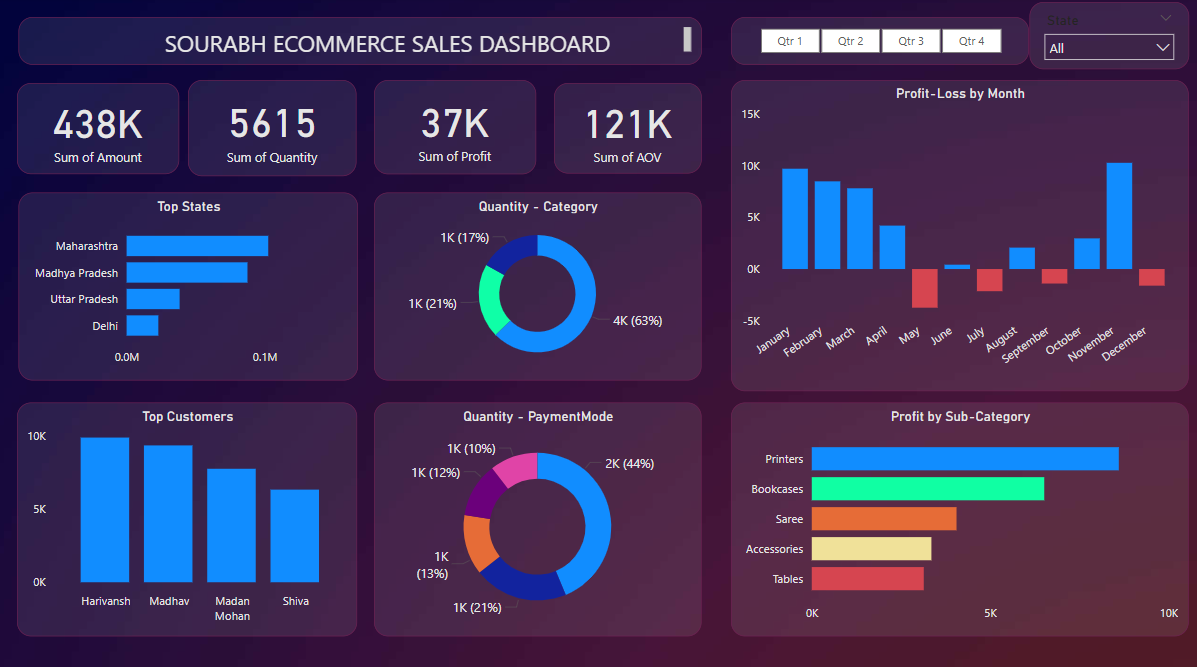

This screenshot's page, from the dashboard's own definition file:
{"tool":"powerbi","page":{"name":"E Commerce Dashboard","canvas":[1280,720],"ordinal":0},"visuals":[{"type":"columnChart","title":"Profit-Loss by Month","fields":{"Y":["Sum(Details.Profit)"],"Category":["Orders.Order Date.Variation.Date Hierarchy.Month"]},"box":[780.1,88.5,485.3,329.7],"z":0},{"type":"barChart","title":" Profit by Sub-Category","fields":{"Category":["Details.Sub-Category"],"Y":["Sum(Details.Profit)"]},"box":[780.1,430.9,485.3,248],"z":1000},{"type":"donutChart","title":"Quantity - Category","fields":{"Category":["Details.Category"],"Y":["Sum(Details.Quantity)"]},"box":[400.7,209.1,347.2,199.4],"z":2000},{"type":"donutChart","title":"Quantity - PaymentMode","fields":{"Y":["Sum(Details.Quantity)"],"Category":["Details.PaymentMode"]},"box":[400.7,430.9,347.2,248],"z":3000},{"type":"card","fields":{"Values":["Sum(Details.Amount)"]},"box":[22.7,92.6,172,96.4],"z":4000},{"type":"card","fields":{"Values":["Sum(Details.Quantity)"]},"box":[204.3,88.5,179,102.1],"z":5000},{"type":"card","fields":{"Values":["Sum(Details.Profit)"]},"box":[400.7,88.5,172.2,100.2],"z":6000},{"type":"card","fields":{"Values":["Sum(Details.AOV)"]},"box":[591.4,92.4,156.6,96.3],"z":7000},{"type":"barChart","title":"Top States","fields":{"Category":["Orders.State"],"Y":["Sum(Details.Amount)"]},"box":[23.3,209.1,359.9,199.4],"z":8000},{"type":"columnChart","title":"Top Customers","fields":{"Category":["Orders.CustomerName"],"Y":["Sum(Details.Amount)"]},"box":[22.4,430.9,360.9,248],"z":9000},{"type":"slicer","fields":{"Values":["Orders.Order Date.Variation.Date Hierarchy.Quarter"]},"box":[780.1,22.4,316.1,50.6],"z":10000},{"type":"slicer","fields":{"Values":["Orders.State"]},"box":[1103.1,7.1,162.3,70.9],"z":11000},{"type":"textbox","box":[23.3,22.4,724.6,50.6],"z":12000}]}

Visuals, with their boxes in screenshot pixels (x1, y1, x2, y2), scaled from the page's 1280x720 canvas onto the 1197x667 screenshot:
"Profit-Loss by Month" columnChart: x1=730 y1=82 x2=1183 y2=387
" Profit by Sub-Category" barChart: x1=730 y1=399 x2=1183 y2=629
"Quantity - Category" donutChart: x1=375 y1=194 x2=699 y2=378
"Quantity - PaymentMode" donutChart: x1=375 y1=399 x2=699 y2=629
card - Sum(Details.Amount): x1=21 y1=86 x2=182 y2=175
card - Sum(Details.Quantity): x1=191 y1=82 x2=358 y2=177
card - Sum(Details.Profit): x1=375 y1=82 x2=536 y2=175
card - Sum(Details.AOV): x1=553 y1=86 x2=699 y2=175
"Top States" barChart: x1=22 y1=194 x2=358 y2=378
"Top Customers" columnChart: x1=21 y1=399 x2=358 y2=629
slicer - Orders.Order Date.Variation.Date Hierarchy.Quarter: x1=730 y1=21 x2=1025 y2=68
slicer - Orders.State: x1=1032 y1=7 x2=1183 y2=72
textbox: x1=22 y1=21 x2=699 y2=68
